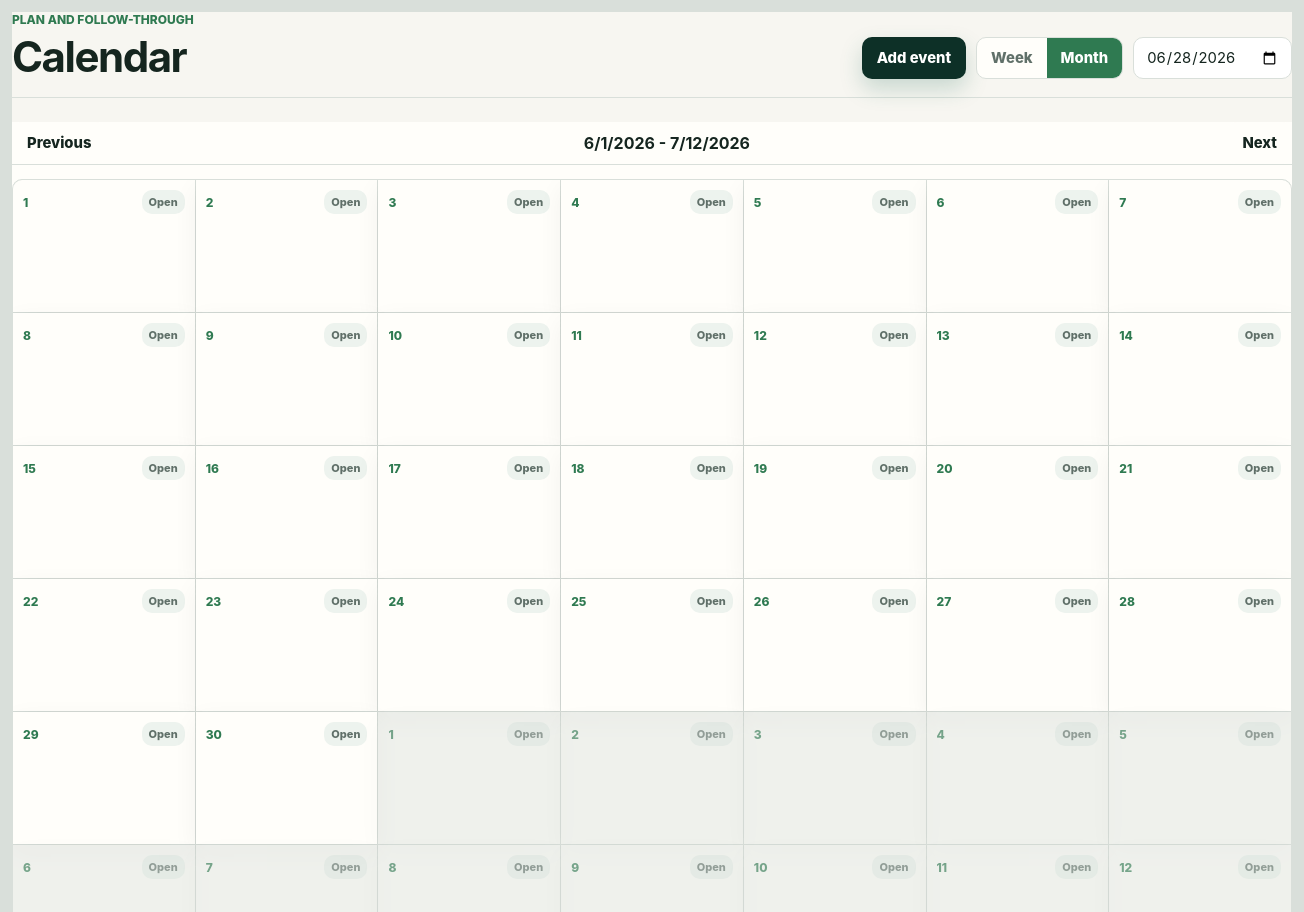
Test case: CalendarPage › month navigation moves by calendar month from month-end dates
Type "2026-05-31" into the date field named "Calendar date".
click(1213, 58); type("2026-05-31")  # box [1133, 37, 1292, 79]
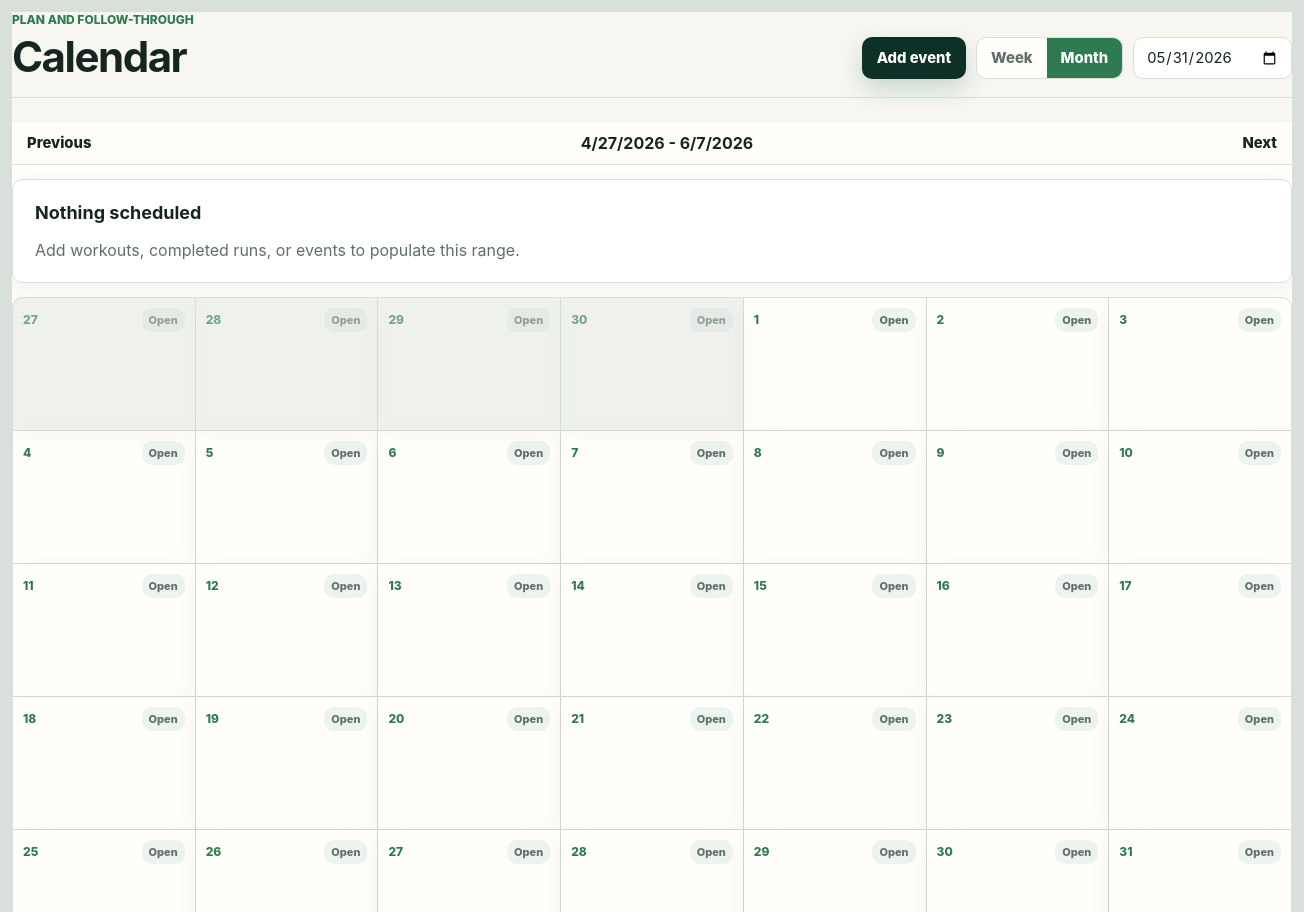
Click the button "Previous".
click(59, 143)  # box [12, 122, 106, 164]
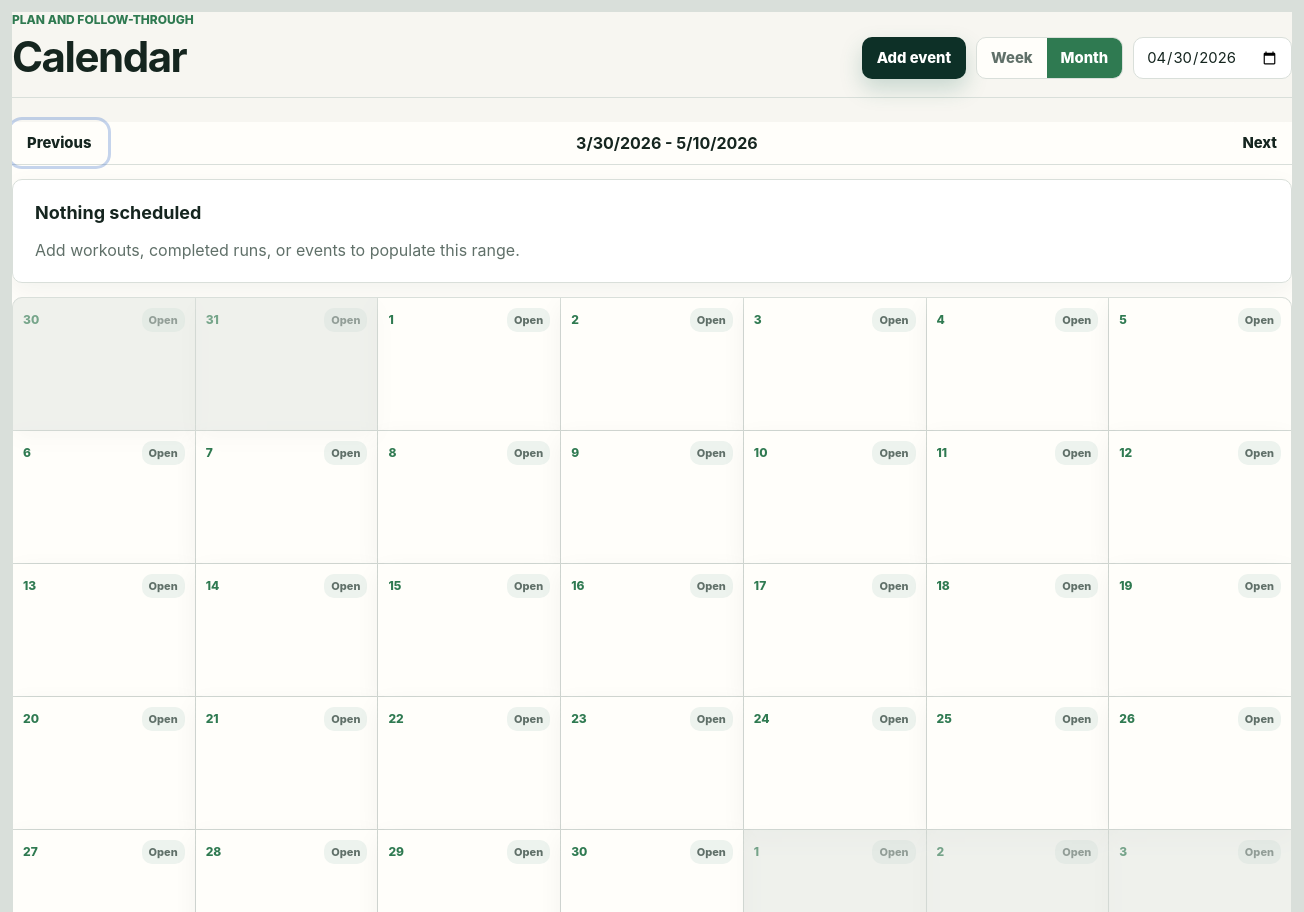
Expected: the date field named "Calendar date" holds "2026-04-30", [1133, 37, 1292, 79]
